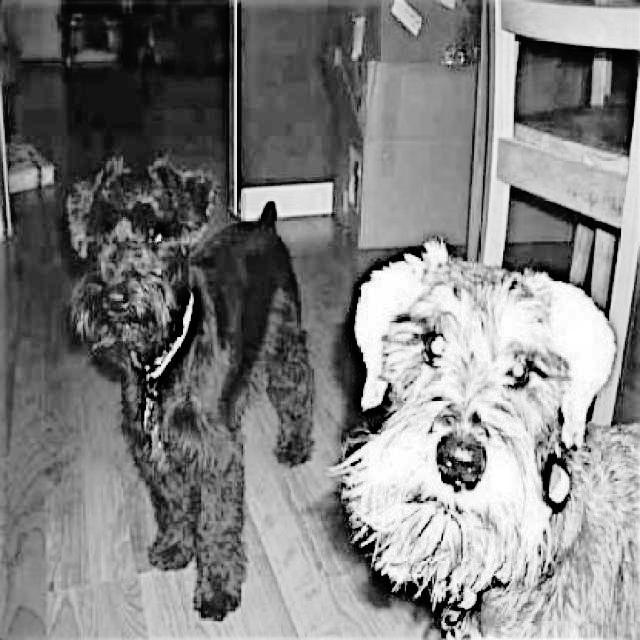Dog: (332, 218, 640, 640), (62, 145, 313, 621)
